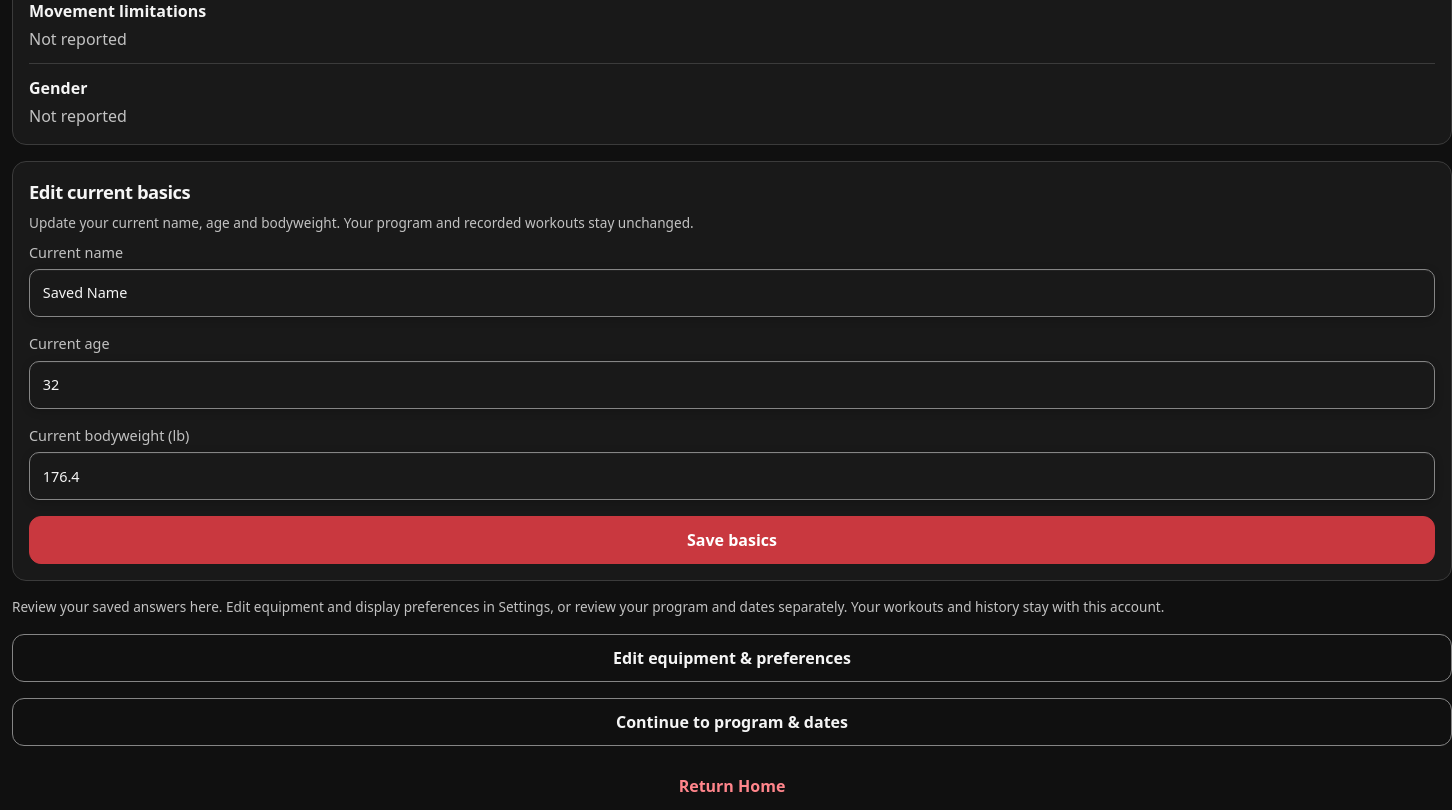
saving an unchanged rounded pound display preserves its exact stored kg
(page scrolled)
Click the button "Save basics" at coordinates (732, 540), box [29,516,1435,564]
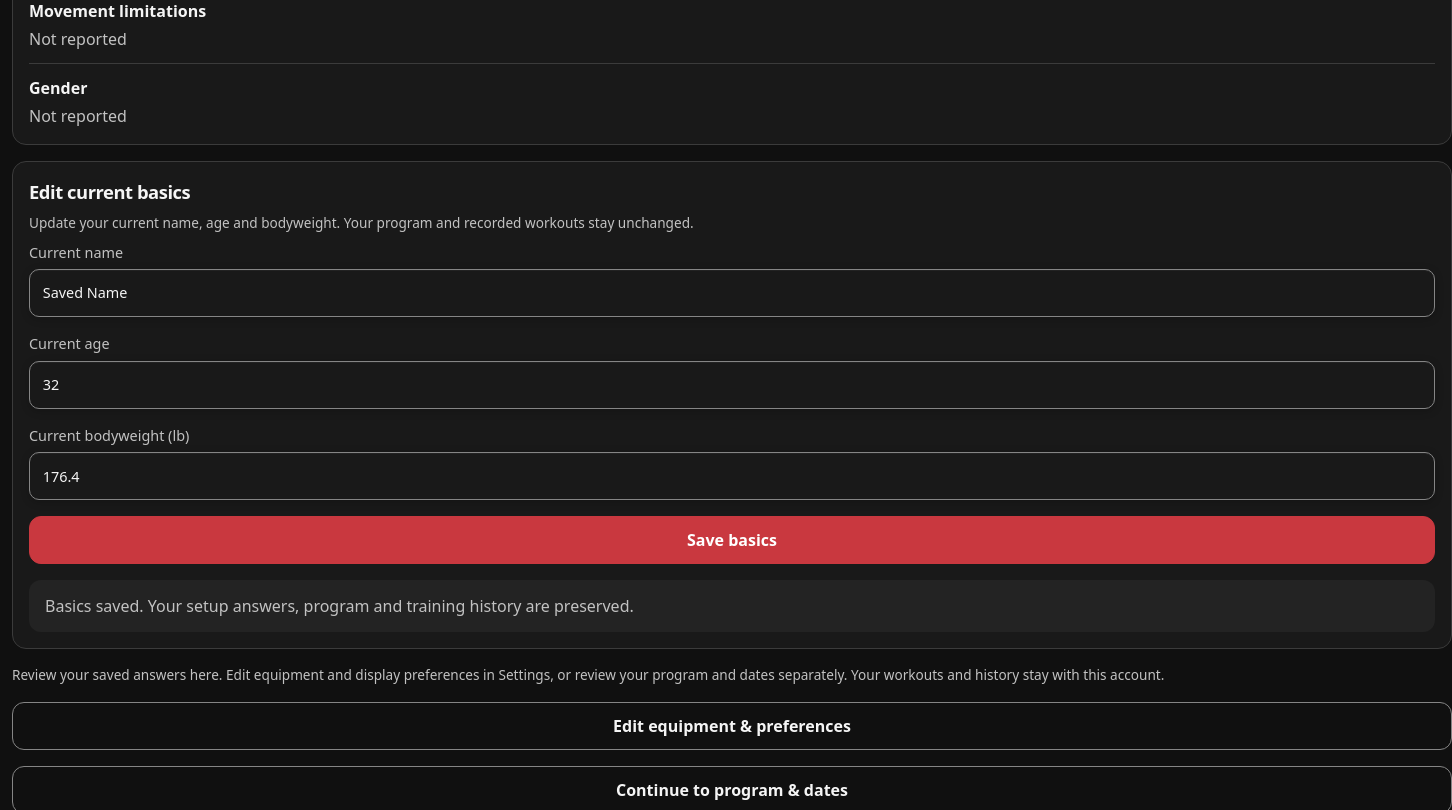
Expected: the text "Basics saved. Your setup answers, program and training history are preserved." is shown, [29,580,1435,632]
